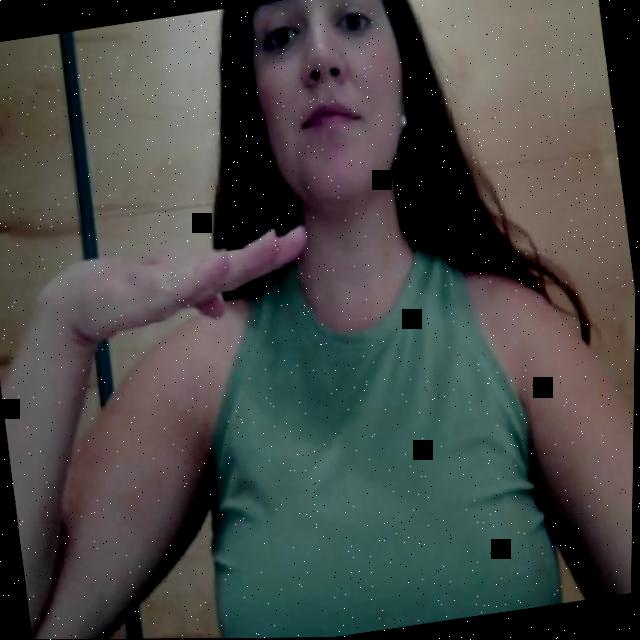Paper: (35, 207, 330, 359)
